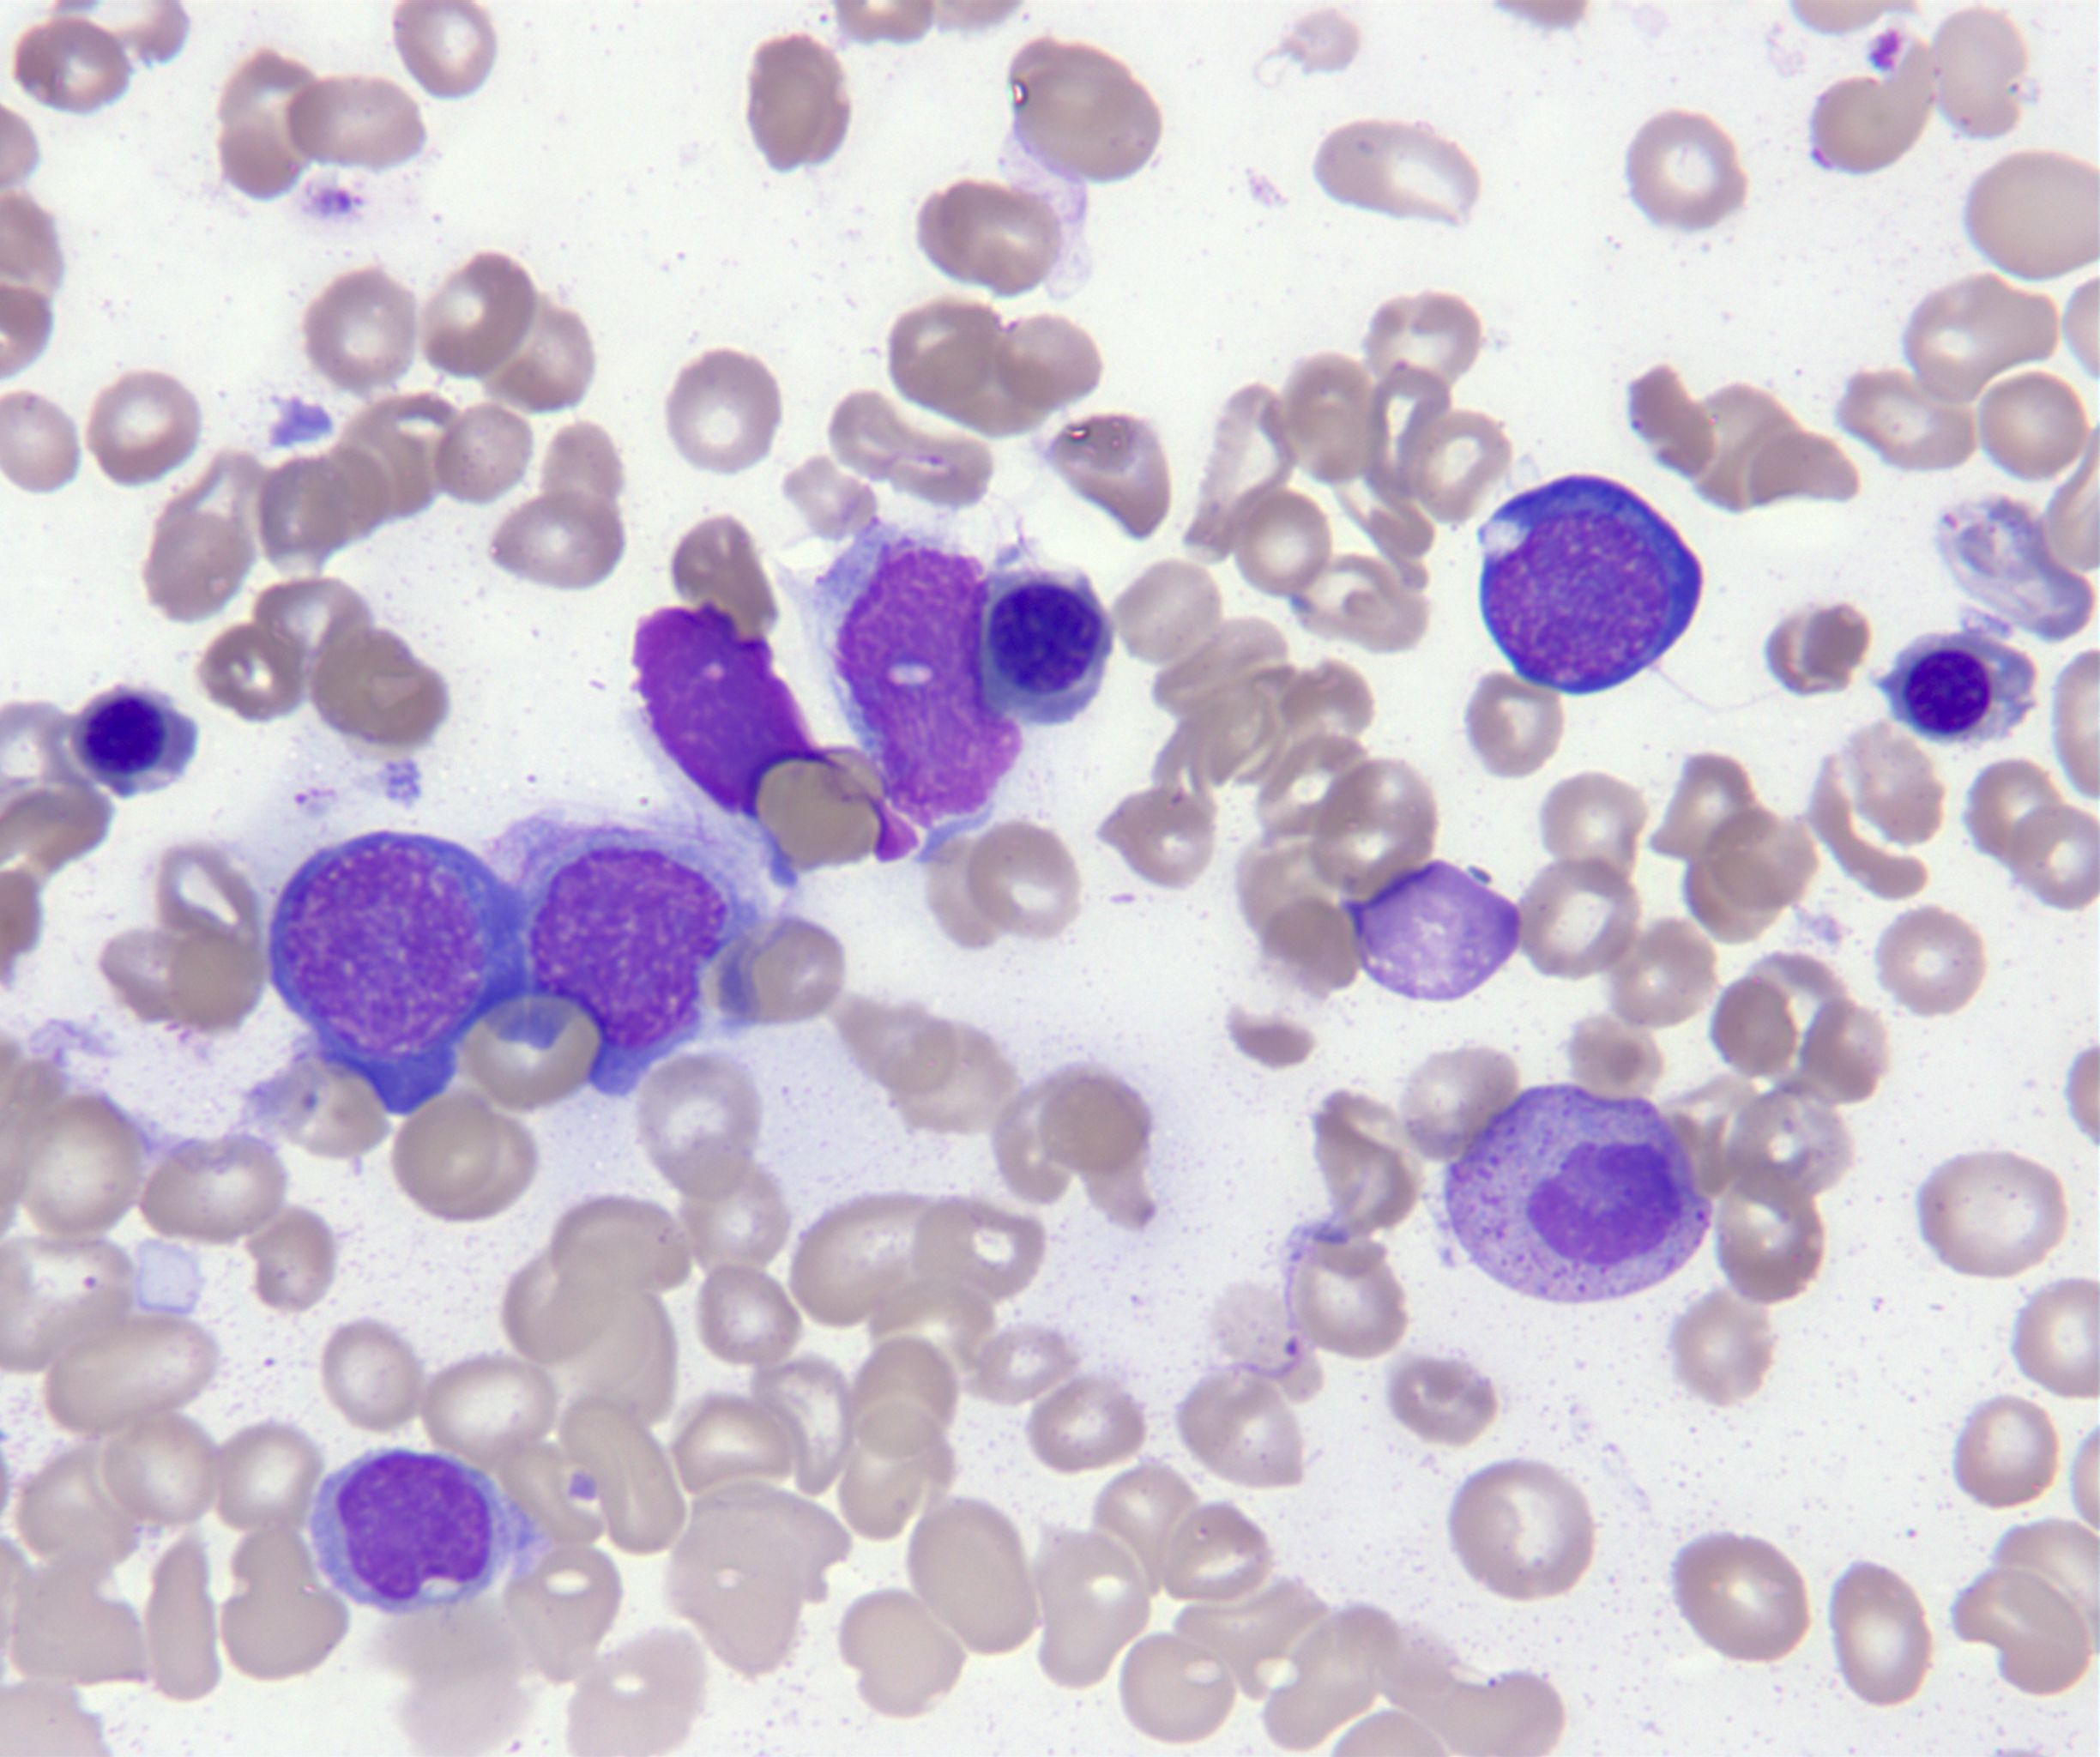22: (270, 831, 530, 1113), (1476, 473, 1704, 693)
23: (963, 560, 1113, 728)
24: (1873, 628, 2035, 742), (66, 687, 195, 797)
42: (309, 1448, 537, 1614)
x: (473, 804, 773, 1096), (633, 602, 919, 865), (799, 523, 1026, 832), (1444, 1087, 1709, 1303), (1338, 857, 1523, 1002)
